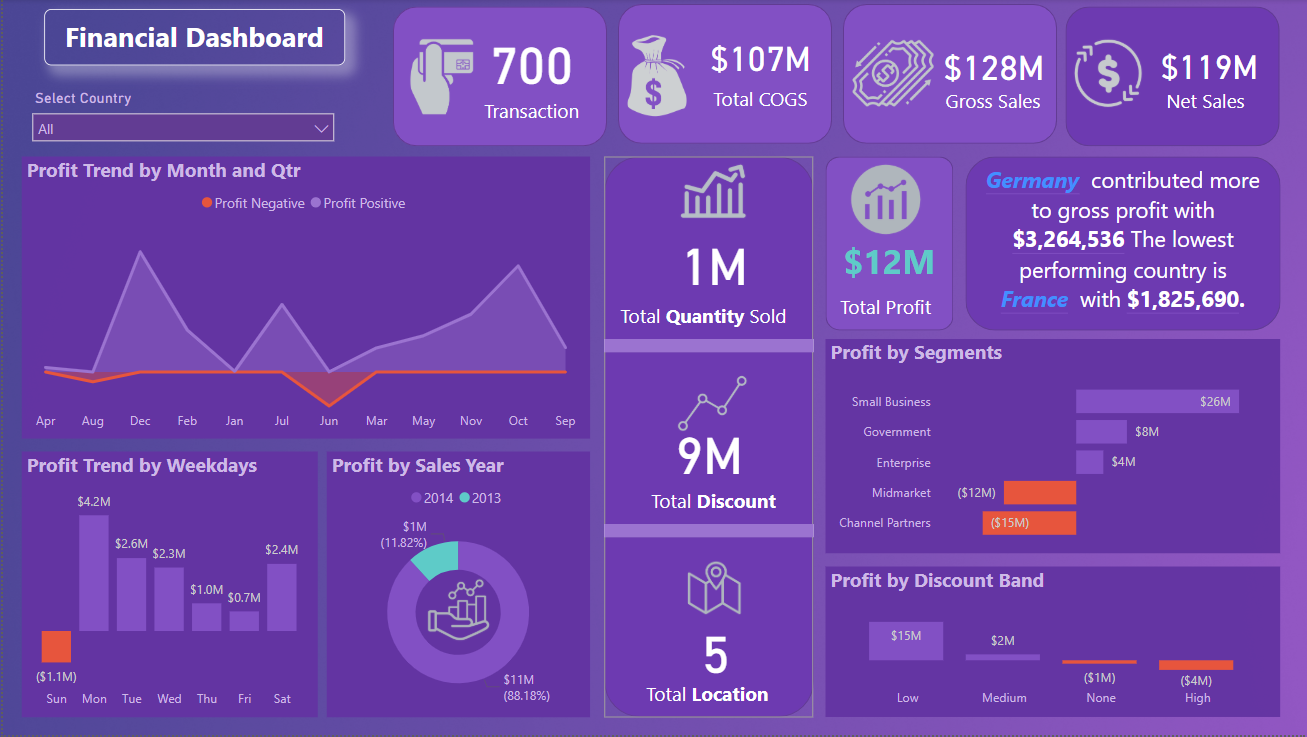

Layout of this report page (visuals, bound fields, positions):
{"tool":"powerbi","page":{"name":"Page 1","canvas":[1280,720],"ordinal":0},"visuals":[{"type":"shape","box":[381.1,7.3,209.5,136.7],"z":0},{"type":"shape","box":[821.8,4.4,209.5,136.7],"z":1000},{"type":"shape","box":[1040,7.3,209.5,136.7],"z":2000},{"type":"shape","box":[602.2,4.4,209.5,136.7],"z":3000},{"type":"image","box":[590.5,27.6,98.9,94.5],"z":4000},{"type":"image","box":[359.3,32,139.6,88.7],"z":5000},{"type":"image","box":[1005.1,32,152.7,81.5],"z":6000},{"type":"image","box":[811.6,32,117.8,81.5],"z":7000},{"type":"card","fields":{"Values":["All Measures.#Transaction"]},"box":[464,11.6,107.6,94.5],"z":8000},{"type":"textbox","box":[459.6,91.6,114.9,40.7],"z":9000},{"type":"card","fields":{"Values":["All Measures.COGS"]},"box":[686.5,8.7,110.5,94.5],"z":10000},{"type":"textbox","box":[683.6,80,114.9,40.7],"z":11000},{"type":"card","fields":{"Values":["All Measures.Gross Sales"]},"box":[913.5,17.5,112,94.5],"z":12000},{"type":"textbox","box":[910.5,81.5,114.9,40.7],"z":13000},{"type":"card","fields":{"Values":["All Measures.Net Sales"]},"box":[1125.8,17.5,107.6,94.5],"z":14000},{"type":"textbox","box":[1118.5,81.5,114.9,40.7],"z":15000},{"type":"textbox","box":[0,0,293.8,55.3],"z":16000},{"type":"textbox","box":[0,32,256,55.3],"z":17000},{"type":"areaChart","title":"Profit Trend by Month and Qtr","fields":{"Category":["Calendar.Month","Calendar.Qtr"],"Y":["All Measures.Profit Negative","All Measures.Profit Positive"]},"box":[18.9,154.2,555.6,276.4],"z":18000},{"type":"columnChart","title":"Profit Trend by Weekdays","fields":{"Category":["Calendar.Weekday"],"Y":["All Measures.Total Profit"]},"box":[18.9,442.2,289.5,260.4],"z":19000},{"type":"donutChart","title":"Profit  by Sales Year","fields":{"Y":["All Measures.Total Profit"],"Category":["Calendar.Year"]},"box":[317.1,442.2,257.5,260.4],"z":20000},{"type":"shape","box":[587.6,154.2,205.1,548.4],"z":21000},{"type":"image","box":[645.8,154.2,98.9,68.4],"z":22000},{"type":"image","box":[640,360.7,109.1,69.8],"z":23000},{"type":"image","box":[632.7,542.5,126.5,66.9],"z":24000},{"type":"shape","box":[587.6,333.1,205.1,13.1],"z":25000},{"type":"shape","box":[587.6,513.5,205.1,13.1],"z":26000},{"type":"textbox","box":[578.9,292.4,213.8,40.7],"z":27000},{"type":"textbox","box":[587.6,472.7,213.8,40.7],"z":28000},{"type":"textbox","box":[581.8,661.8,213.8,40.7],"z":29000},{"type":"card","fields":{"Values":["Sum(financials.Units Sold)"]},"box":[641.5,209.5,107.6,94.5],"z":30000},{"type":"card","fields":{"Values":["All Measures.Total Discounts"]},"box":[637.1,394.2,107.6,94.5],"z":31000},{"type":"card","fields":{"Values":["Count(financials.Country)"]},"box":[642.9,587.6,107.6,94.5],"z":32000},{"type":"shape","box":[804.4,154.2,125.1,170.2],"z":33000},{"type":"image","box":[814.5,154.2,98.9,84.4],"z":34000},{"type":"textbox","box":[801.5,283.6,125.1,40.7],"z":35000},{"type":"card","fields":{"Values":["All Measures.Total Profit"]},"box":[811.6,209.5,110.5,94.5],"z":36000},{"type":"shape","box":[941.1,154.2,308.4,170.2],"z":37000},{"type":"barChart","title":"Profit by Segments","fields":{"Category":["financials.Segment"],"Y":["All Measures.Total Profit"]},"box":[804.4,333.1,445.1,209.5],"z":38000},{"type":"columnChart","title":"Profit by Discount Band","fields":{"Category":["financials.Discount Band"],"Y":["All Measures.Total Profit"]},"box":[804.4,555.6,445.1,146.9],"z":39000},{"type":"slicer","fields":{"Values":["financials.Country"]},"box":[18.9,82.9,315.6,61.1],"z":40000},{"type":"image","box":[394.2,560,103.3,75.6],"z":41000},{"type":"textbox","box":[954.2,157.1,283.6,167.3],"z":42000}]}

Visuals, with their boxes in screenshot pixels (x1, y1, x2, y2), scaled from the page's 1280x720 canvas onto the 1307x737 screenshot:
shape: crop(389, 7, 603, 147)
shape: crop(839, 5, 1053, 144)
shape: crop(1062, 7, 1276, 147)
shape: crop(615, 5, 829, 144)
image: crop(603, 28, 704, 125)
image: crop(367, 33, 509, 124)
image: crop(1026, 33, 1182, 116)
image: crop(829, 33, 949, 116)
card - All Measures.#Transaction: crop(474, 12, 584, 109)
textbox: crop(469, 94, 587, 135)
card - All Measures.COGS: crop(701, 9, 814, 106)
textbox: crop(698, 82, 815, 124)
card - All Measures.Gross Sales: crop(933, 18, 1047, 115)
textbox: crop(930, 83, 1047, 125)
card - All Measures.Net Sales: crop(1150, 18, 1259, 115)
textbox: crop(1142, 83, 1259, 125)
textbox: crop(0, 0, 300, 57)
textbox: crop(0, 33, 261, 89)
"Profit Trend by Month and Qtr" areaChart: crop(19, 158, 587, 441)
"Profit Trend by Weekdays" columnChart: crop(19, 453, 315, 719)
"Profit  by Sales Year" donutChart: crop(324, 453, 587, 719)
shape: crop(600, 158, 809, 719)
image: crop(659, 158, 760, 228)
image: crop(654, 369, 765, 441)
image: crop(646, 555, 775, 624)
shape: crop(600, 341, 809, 354)
shape: crop(600, 526, 809, 539)
textbox: crop(591, 299, 809, 341)
textbox: crop(600, 484, 818, 526)
textbox: crop(594, 677, 812, 719)
card - Sum(financials.Units Sold): crop(655, 214, 765, 311)
card - All Measures.Total Discounts: crop(651, 404, 760, 500)
card - Count(financials.Country): crop(656, 601, 766, 698)
shape: crop(821, 158, 949, 332)
image: crop(832, 158, 933, 244)
textbox: crop(818, 290, 946, 332)
card - All Measures.Total Profit: crop(829, 214, 942, 311)
shape: crop(961, 158, 1276, 332)
"Profit by Segments" barChart: crop(821, 341, 1276, 555)
"Profit by Discount Band" columnChart: crop(821, 569, 1276, 719)
slicer - financials.Country: crop(19, 85, 342, 147)
image: crop(403, 573, 508, 651)
textbox: crop(974, 161, 1264, 332)
